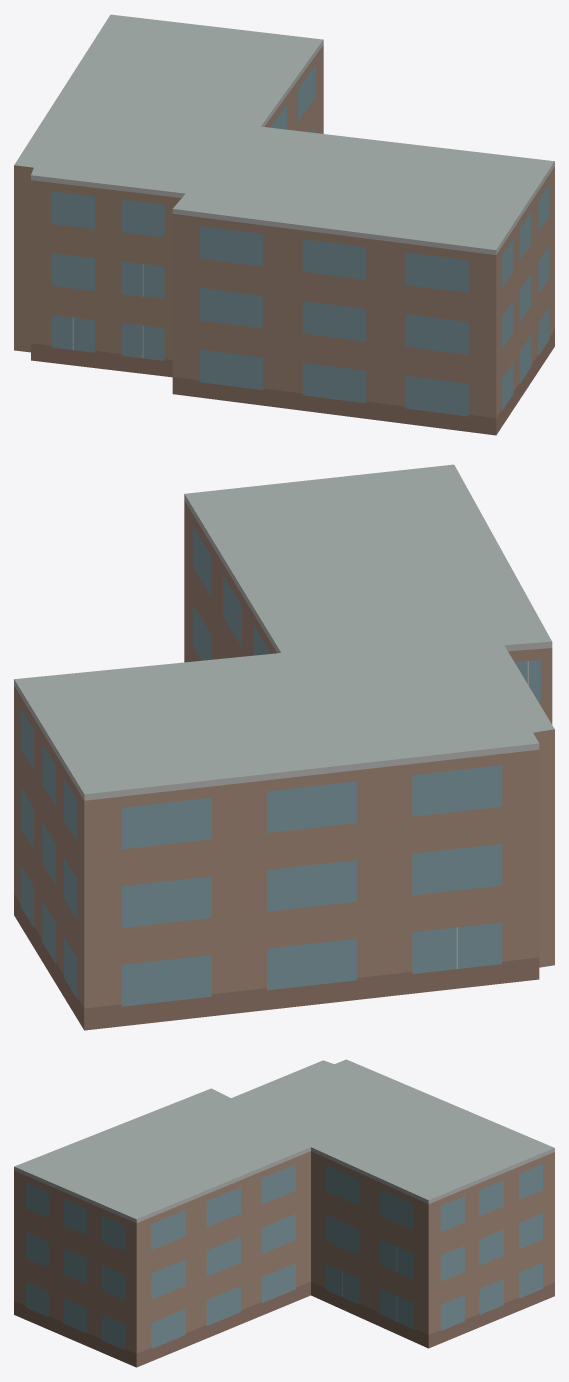
The model's file is survey-upis-32772367.glb.
The picture shows the model from 3 angles, top to bottom: view 1: azimuth 30°, elevation 25°; view 2: azimuth 150°, elevation 25°; view 3: azimuth 270°, elevation 25°; orthographic projection. The views are drawn at different scales.
Visible parts, largest first — view 1: survey-upis-32772367.tmp; view 2: survey-upis-32772367.tmp; view 3: survey-upis-32772367.tmp.
Boxes of the visible parts, x1,y1,x2,y2 form: survey-upis-32772367.tmp: (14,14,554,435); survey-upis-32772367.tmp: (14,464,554,1030); survey-upis-32772367.tmp: (14,1059,554,1367).
Size of the model in its own units: 21.19 by 9.15 by 30.27.
